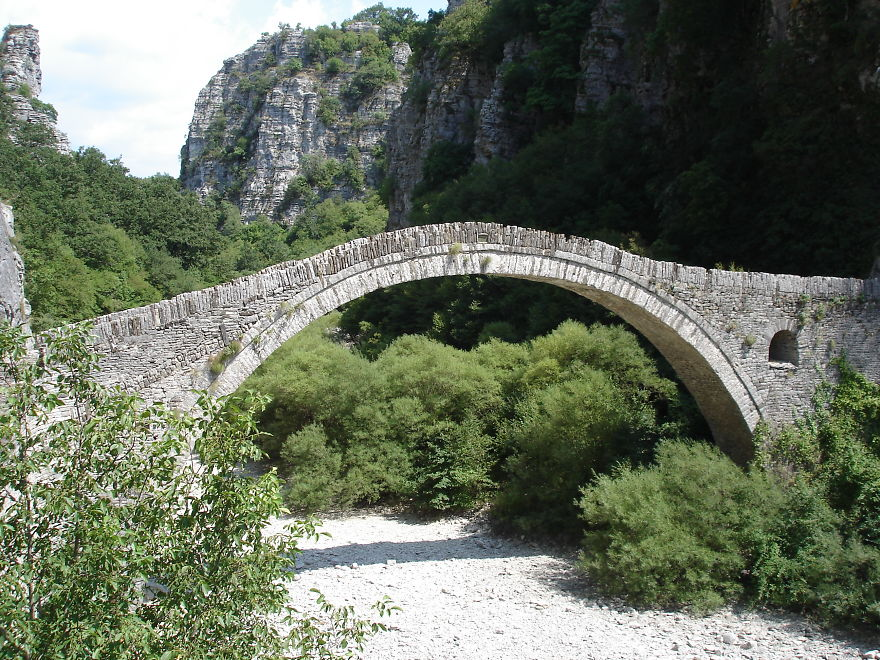bridge: (25, 219, 877, 469)
